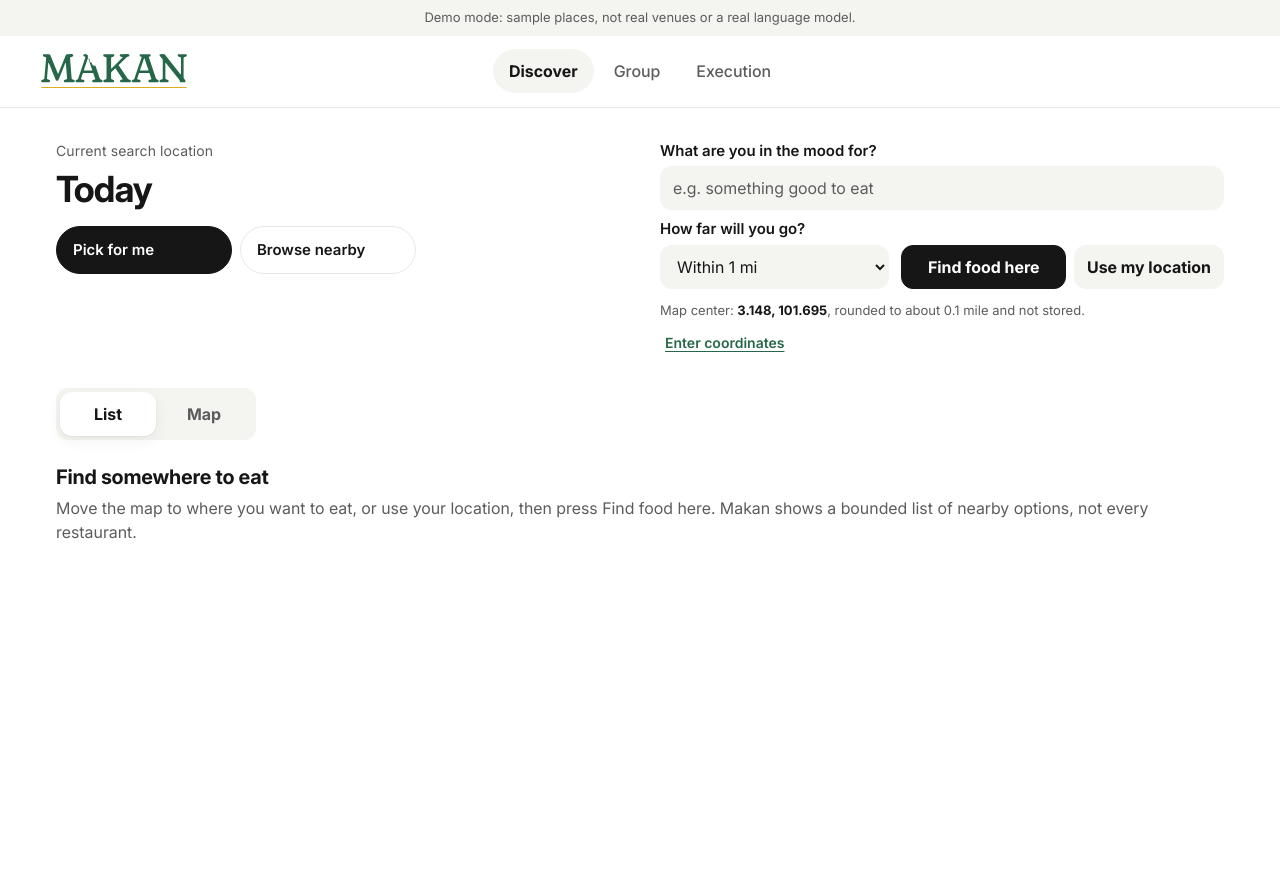
starting a group › asks what the group wants, then starts it at the map center and gives a link to share
The image size is (1280, 877).
Click the button "Group" at (637, 71), box [598,49,676,93]
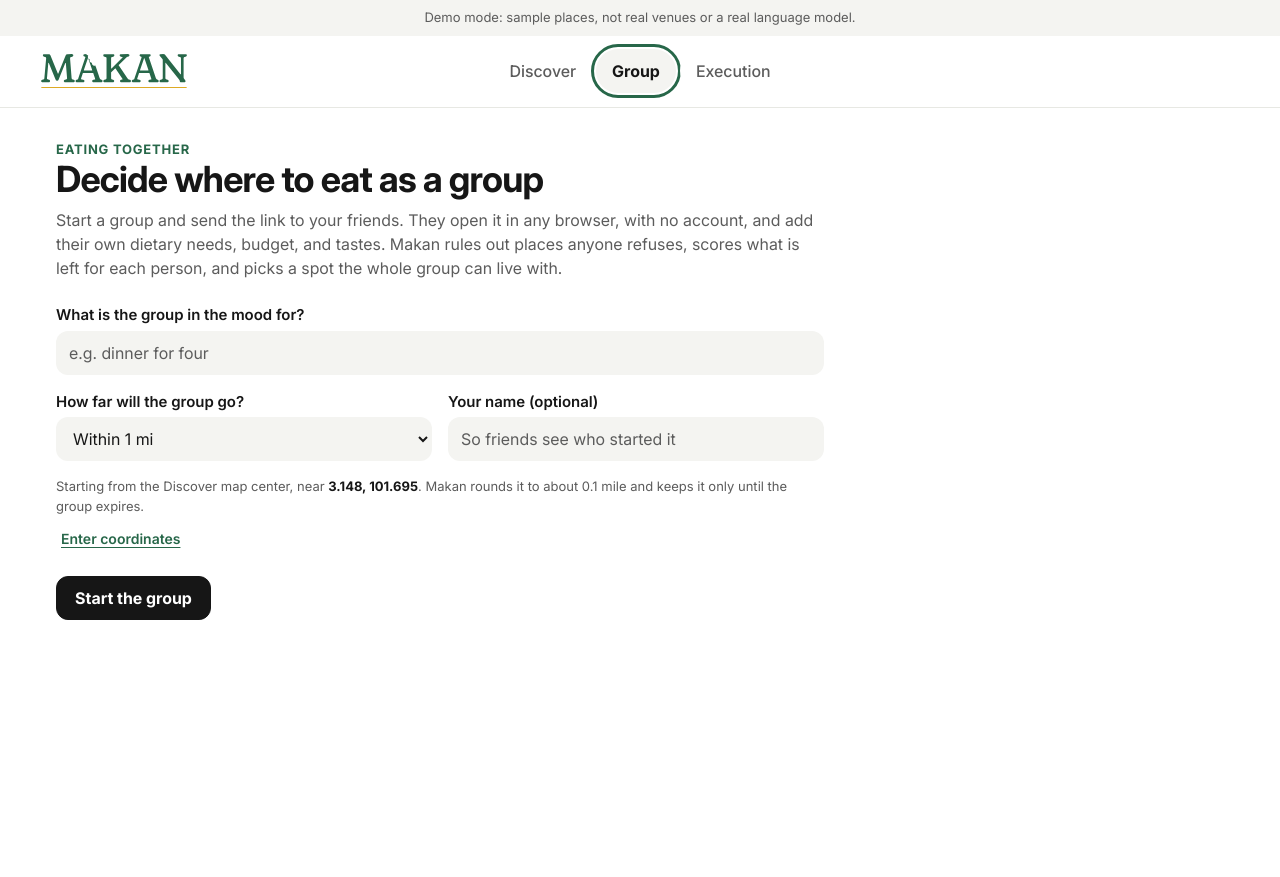
Type "dinner for four" into the field labelled "What is the group in the mood for?" at (440, 353), box [56,331,824,375]
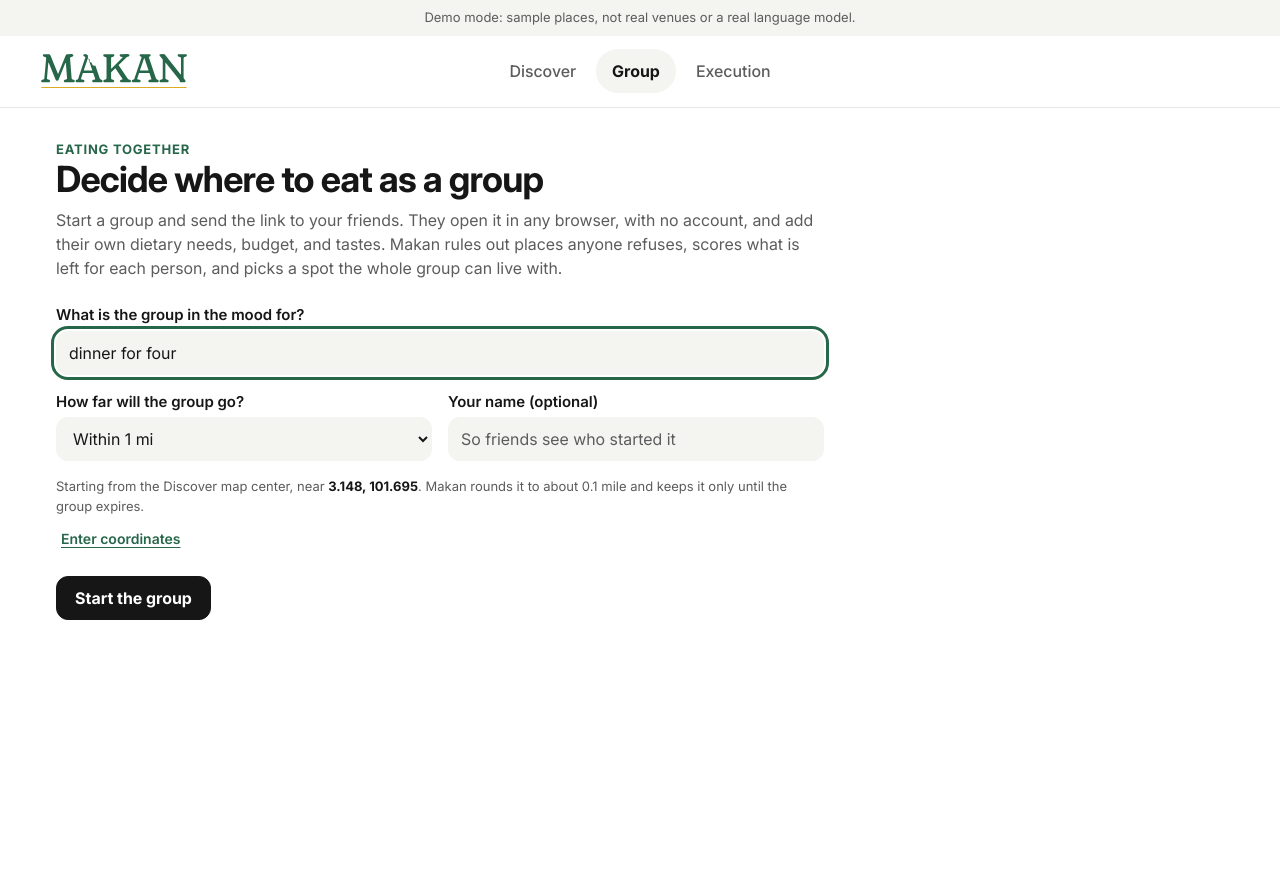
Type "Alex" into the field labelled "Your name (optional)" at (636, 439), box [448,417,824,461]
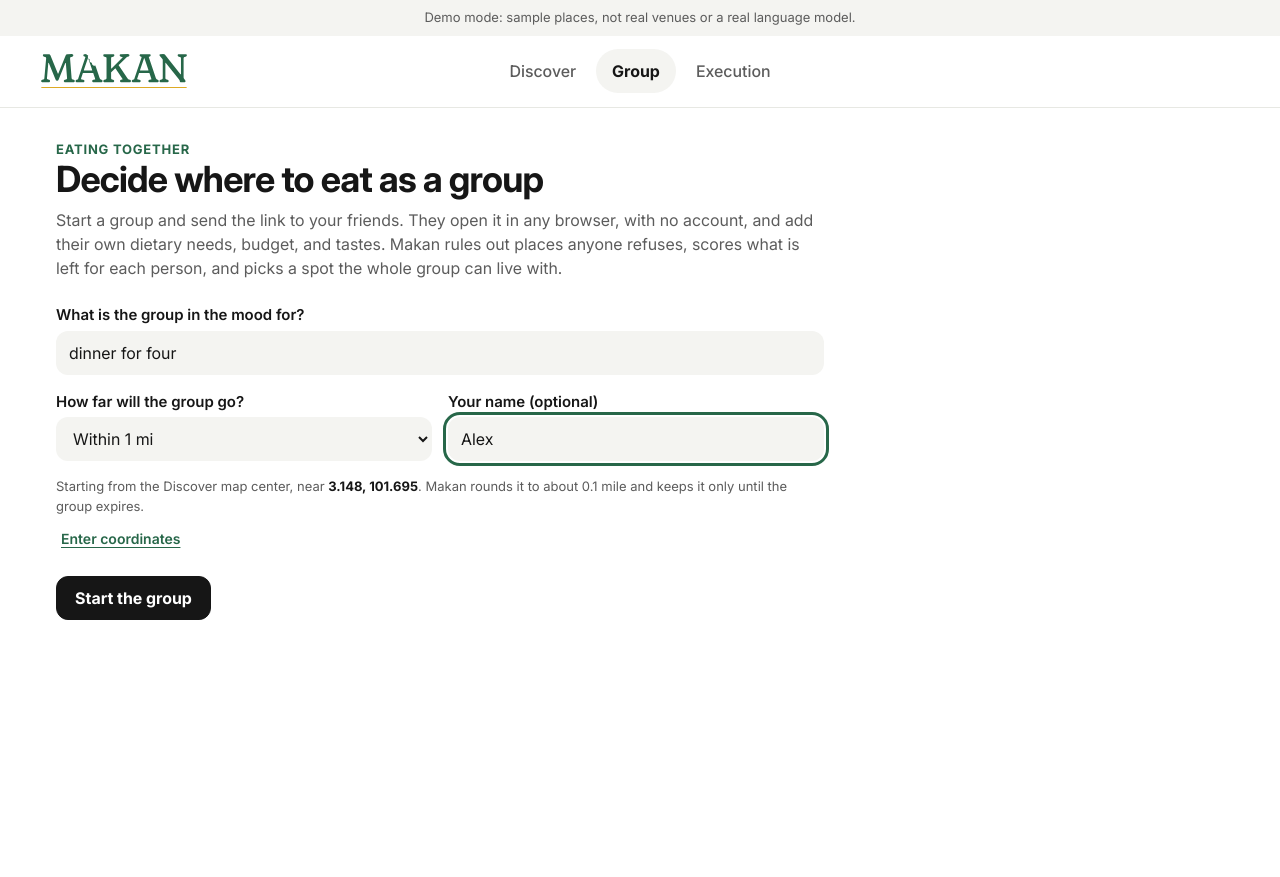
Click the button "Start the group" at (133, 598), box [56,576,211,620]
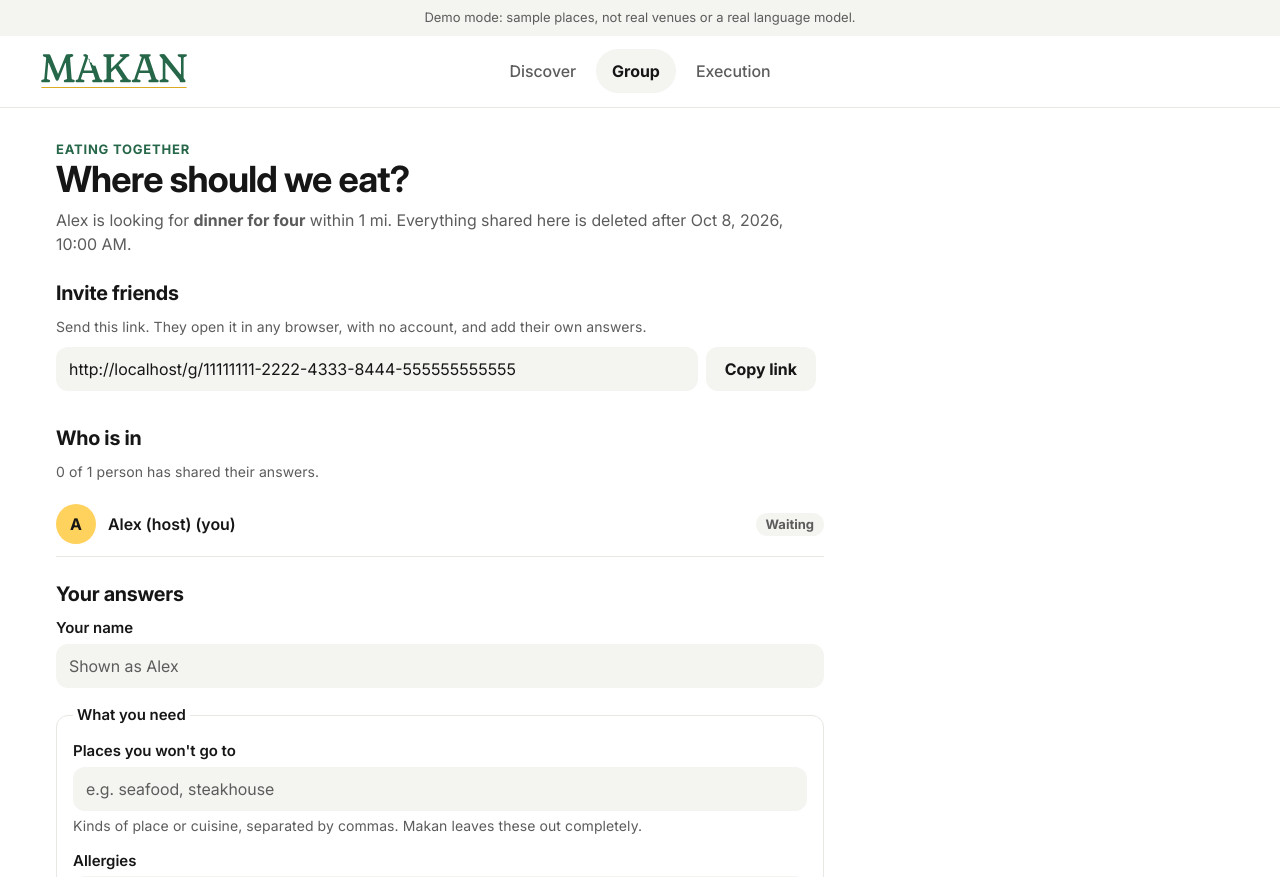
Now the heading "Where should we eat?" is shown, box [56,157,409,201]
Now the text "Alex is looking for" is shown, box [56,210,189,230]
Now the text "dinner for four" is shown, box [194,210,305,230]
